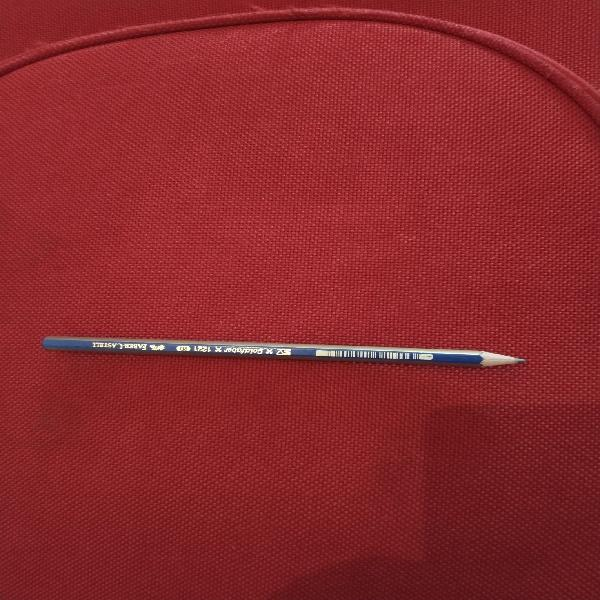pencil: (42, 336, 525, 366)
